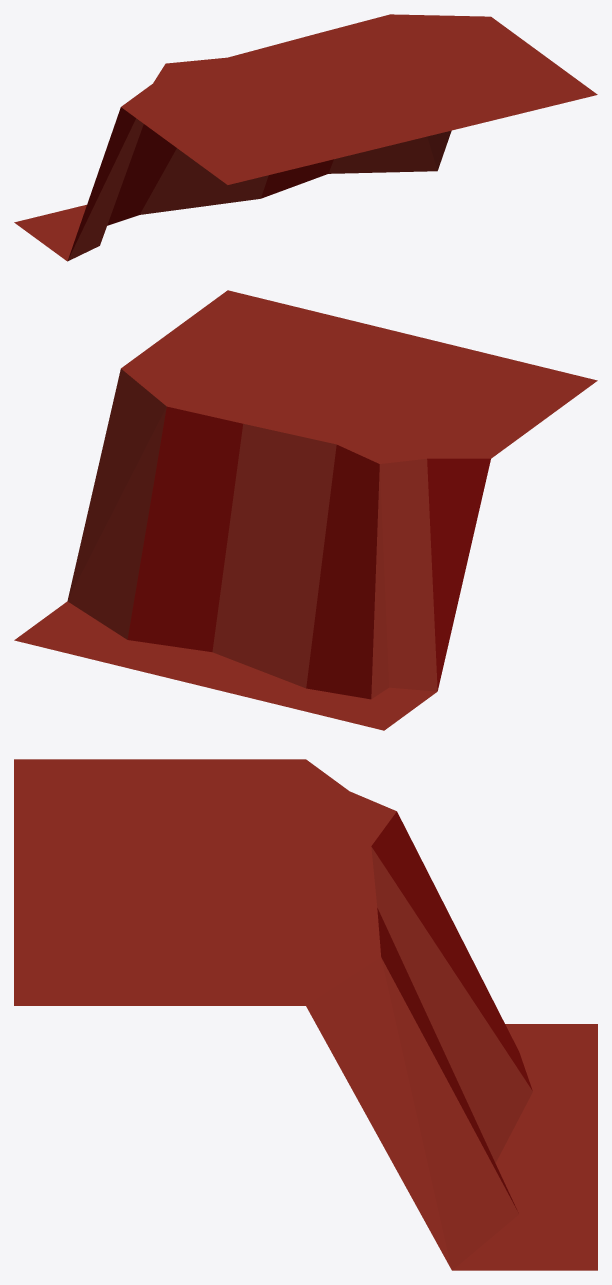
File: Border_1.fbx
The picture shows the model from 3 angles, top to bottom: view 1: azimuth 30°, elevation 25°; view 2: azimuth 150°, elevation 25°; view 3: azimuth 270°, elevation 25°; orthographic projection. The views are drawn at different scales.
Parts seen in each view (by area): view 1: Plane.038; view 2: Plane.038; view 3: Plane.038.
Part boxes in pixels (x1,y1,x2,y2): Plane.038: (14,14,597,261); Plane.038: (14,290,597,730); Plane.038: (14,759,597,1270).
Size of the model in its own units: 200 by 100 by 200.
